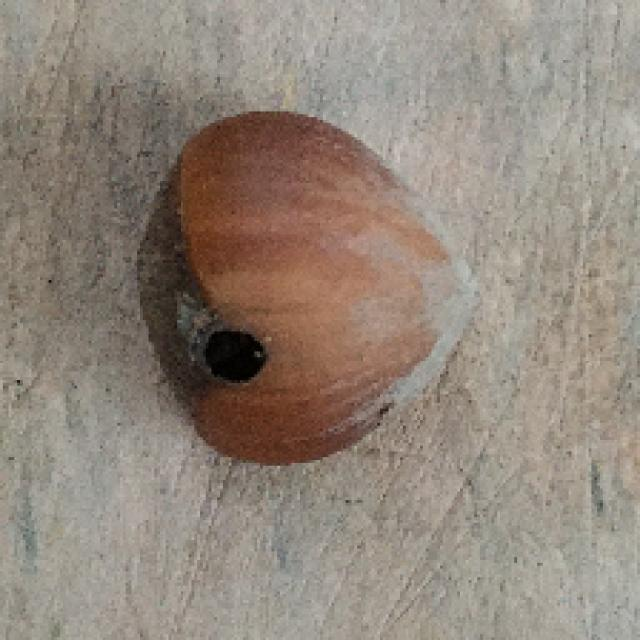damagedHazelnut: (139, 111, 484, 469)
